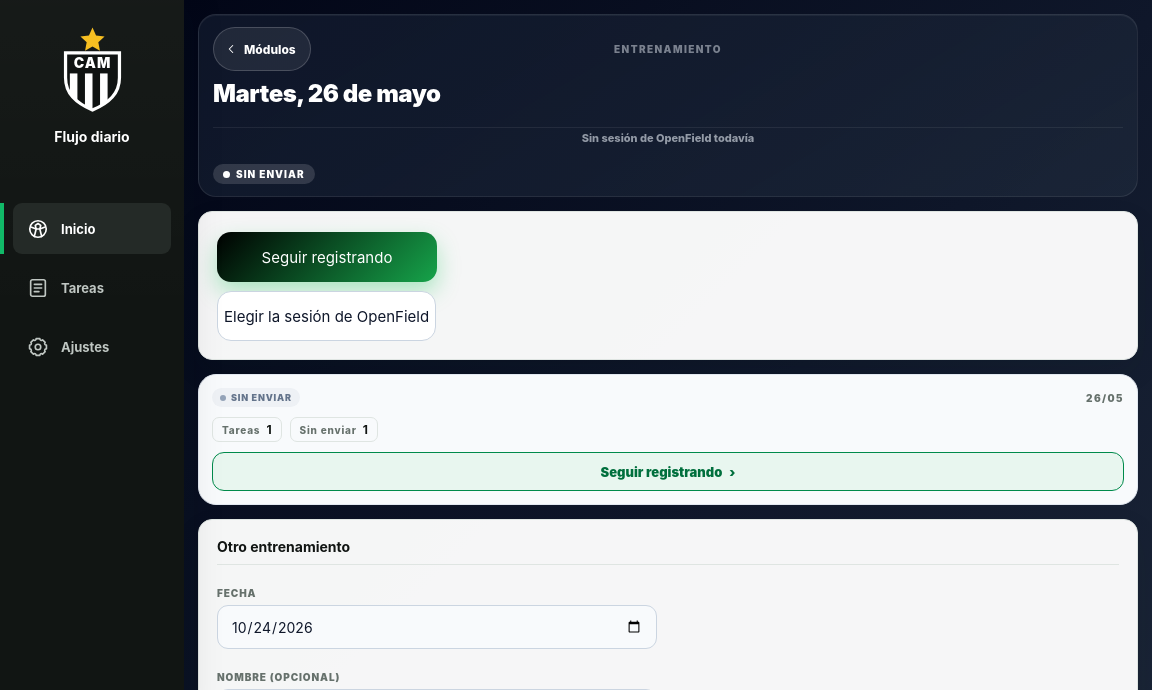
Test: TrainingModule › desde Inicio se elige la sesión de OpenField del entrenamiento actual
Click the button "Elegir la sesión de OpenField". click: (327, 316)
box: [217,291,436,341]
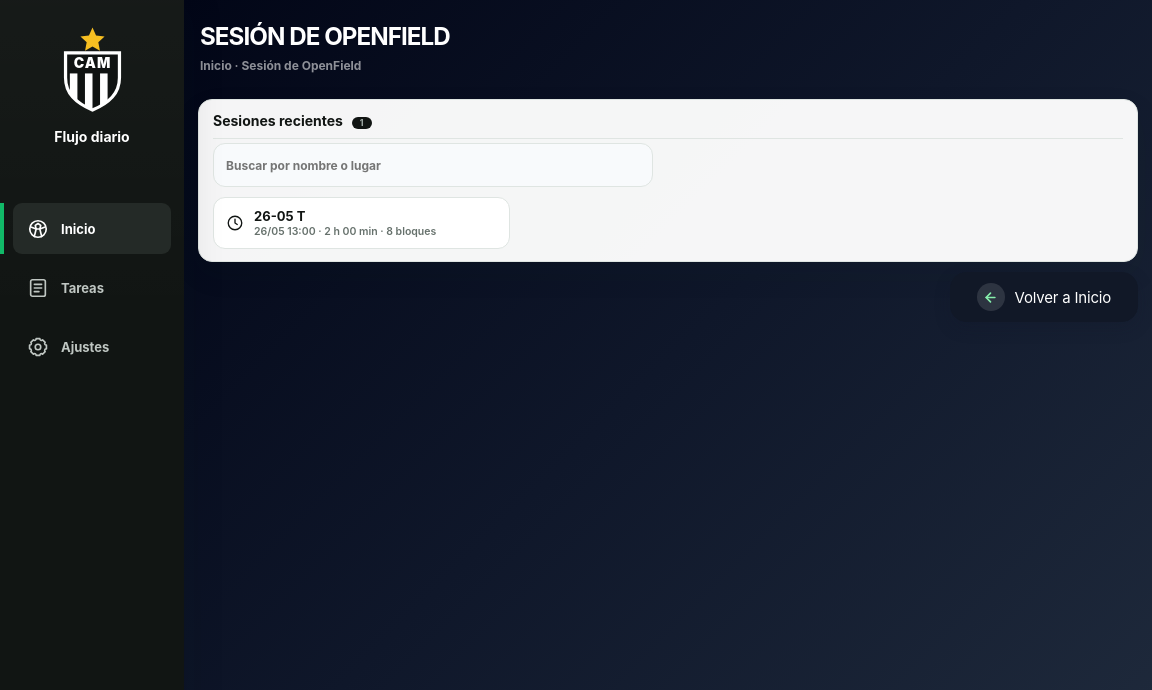
Expected: the heading "Sesión de OpenField" is shown, [200,22,450,51]
Expected: the button with class "boton-volver" reads "Volver a Inicio", [950,272,1138,322]
Click the button with class "entrenamiento-actividad". click: (361, 223)
box: [213,197,510,249]
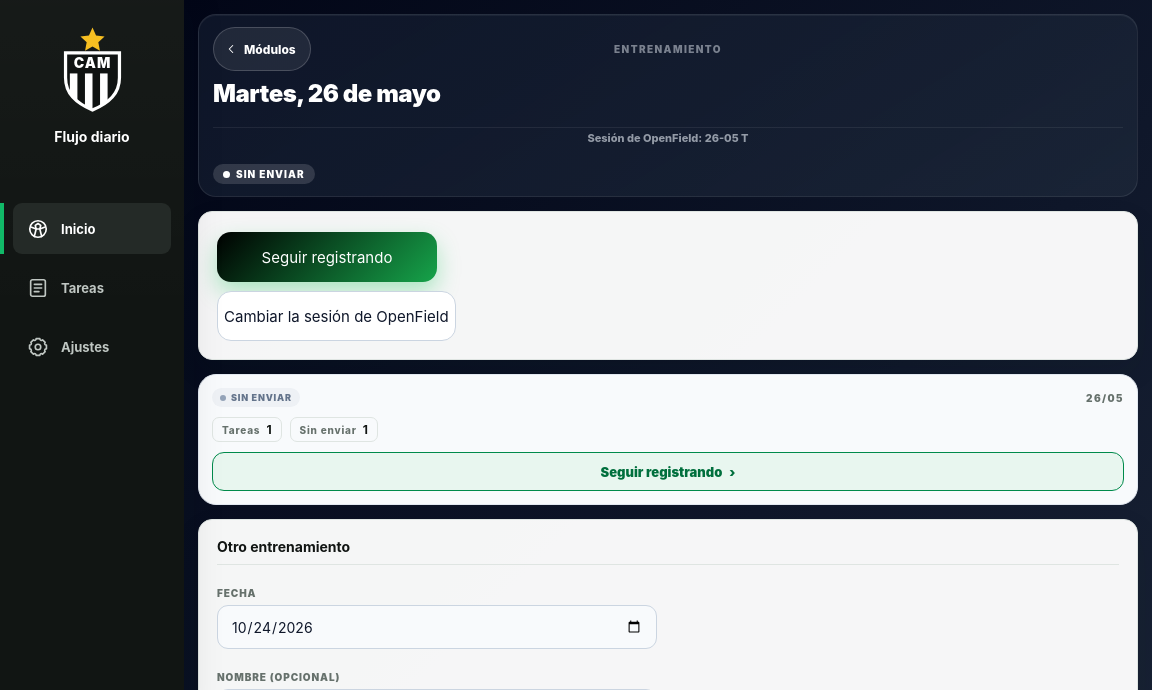
Expected: the text "Sesión de OpenField: 26-05 T" is shown, [213,127,1123,145]
